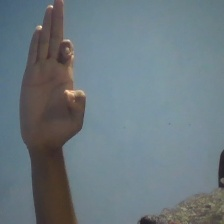F: (18, 1, 87, 149)
